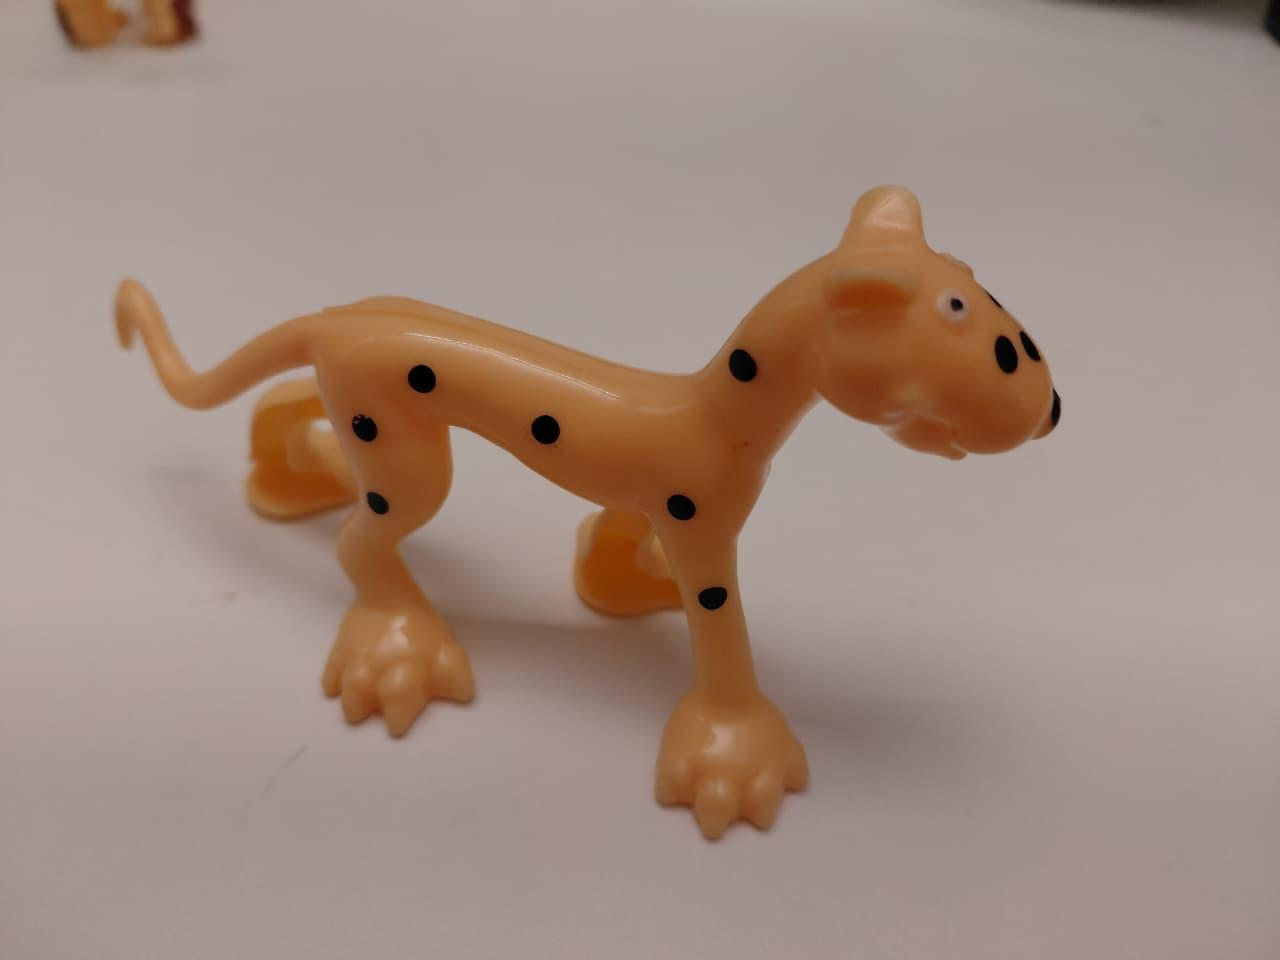cheetah: (102, 182, 1075, 866)
